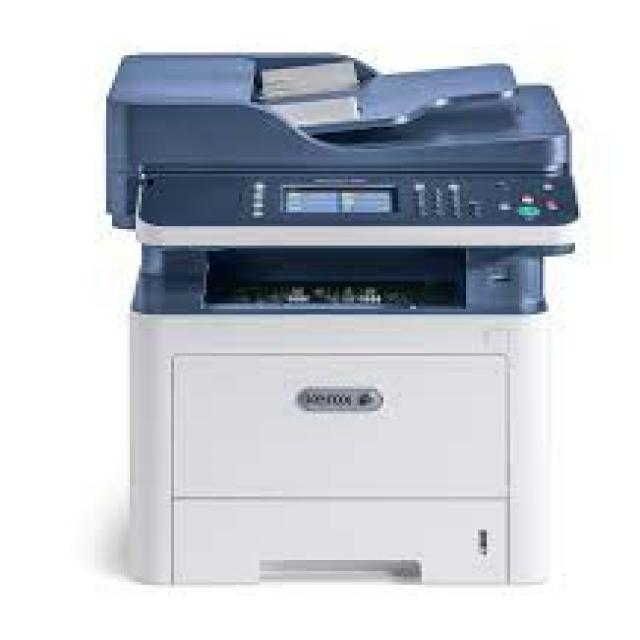printer: (84, 27, 596, 621)
